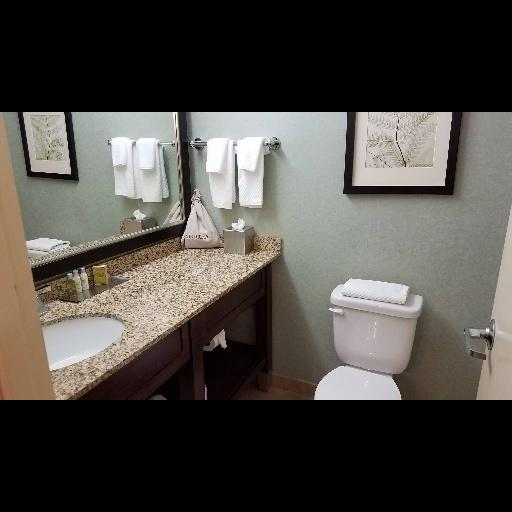clean_sink: (26, 216, 281, 402)
folded_towel: (204, 138, 273, 212)
